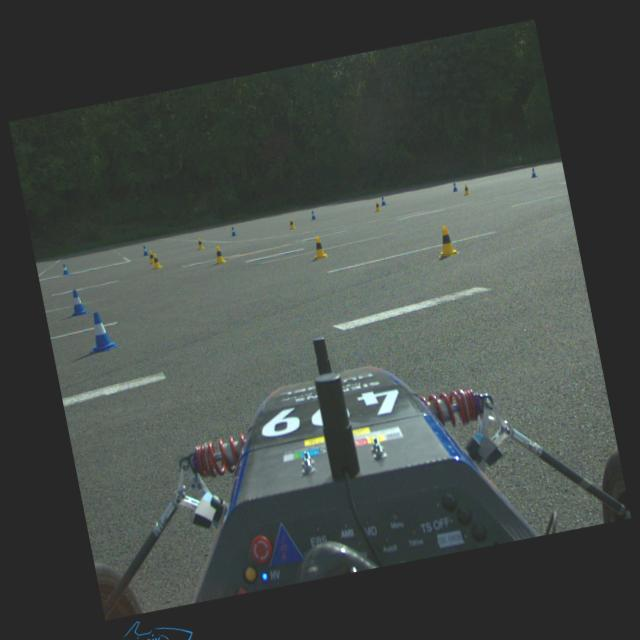blue_cone: (83, 310, 119, 354), (66, 288, 89, 317), (61, 262, 70, 276), (142, 244, 150, 256), (230, 226, 238, 237), (530, 168, 538, 178), (379, 196, 386, 206), (310, 210, 317, 220), (452, 182, 458, 192)
yellow_cone: (434, 225, 459, 258), (310, 234, 330, 260), (212, 244, 227, 264), (150, 252, 163, 270), (196, 238, 206, 250), (147, 250, 155, 264), (288, 217, 296, 230), (463, 183, 471, 196), (374, 200, 382, 212)
